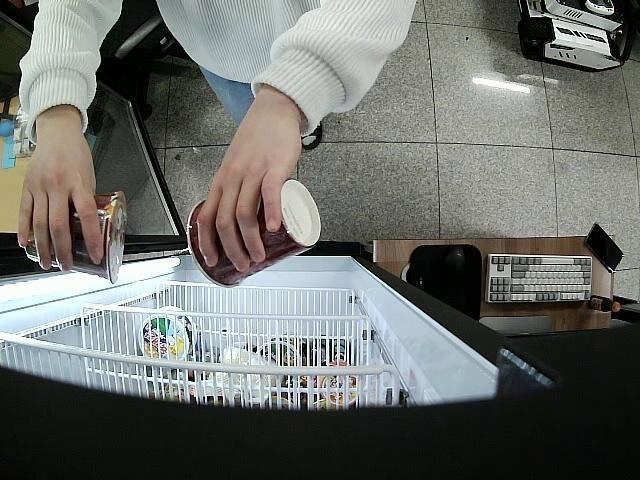06_nuguri_S: (186, 179, 324, 290), (25, 192, 130, 286)
